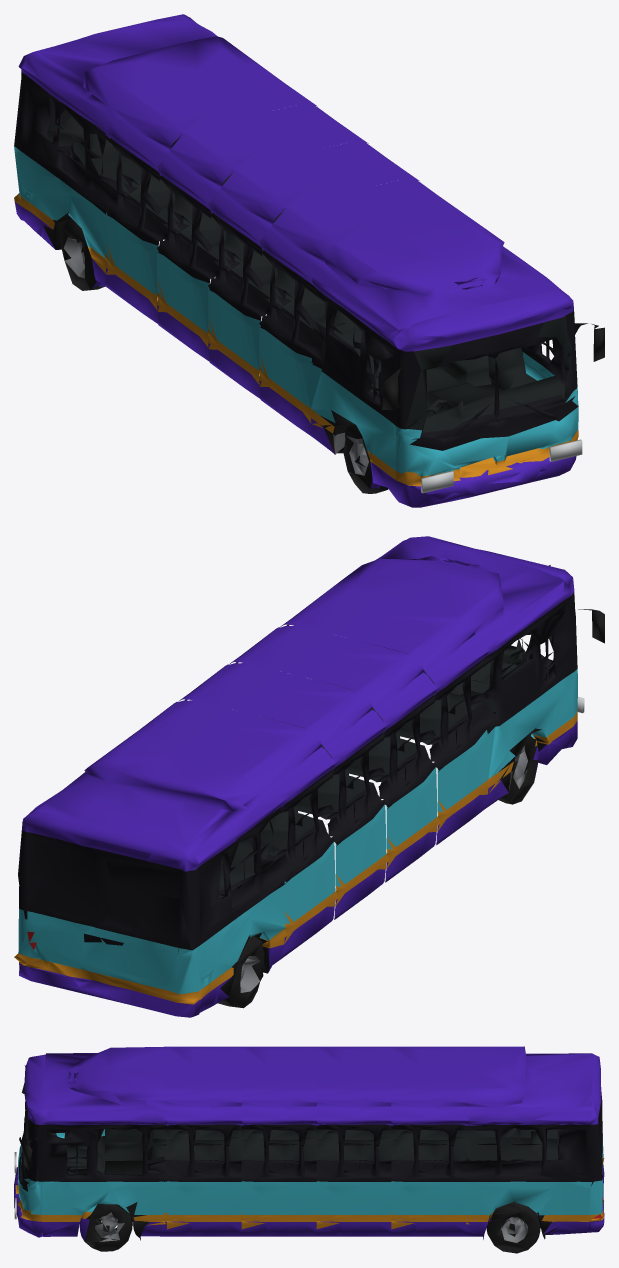
File: mtc_electric.glb
3 renders of one model, top to bottom at view 1: azimuth 30°, elevation 25°; view 2: azimuth 150°, elevation 25°; view 3: azimuth 270°, elevation 25°, orthographic. The views are drawn at different scales.
Visible parts, largest first — view 1: geometry_0; view 2: geometry_0; view 3: geometry_0.
Part boxes in pixels (x1=…): geometry_0: x1=14, y1=14, x2=604, y2=507; geometry_0: x1=14, y1=536, x2=604, y2=1017; geometry_0: x1=14, y1=1046, x2=604, y2=1253.
Size of the model in its own units: 3.22 by 2.95 by 10.11.
